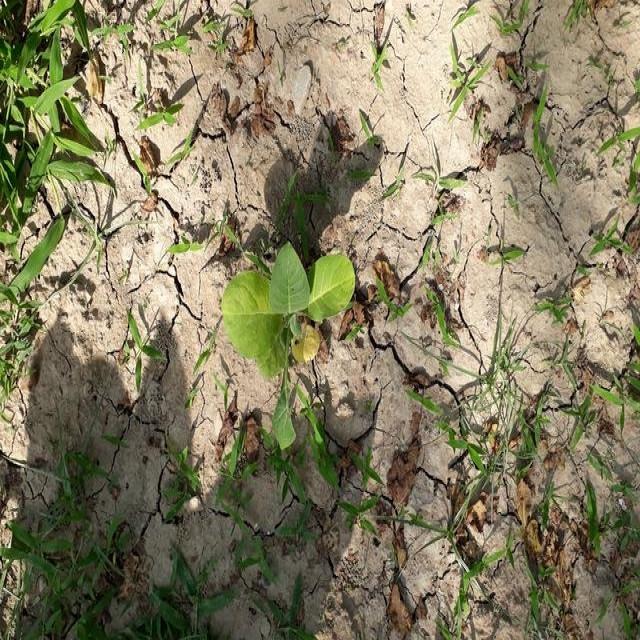crop: (229, 239, 378, 472)
